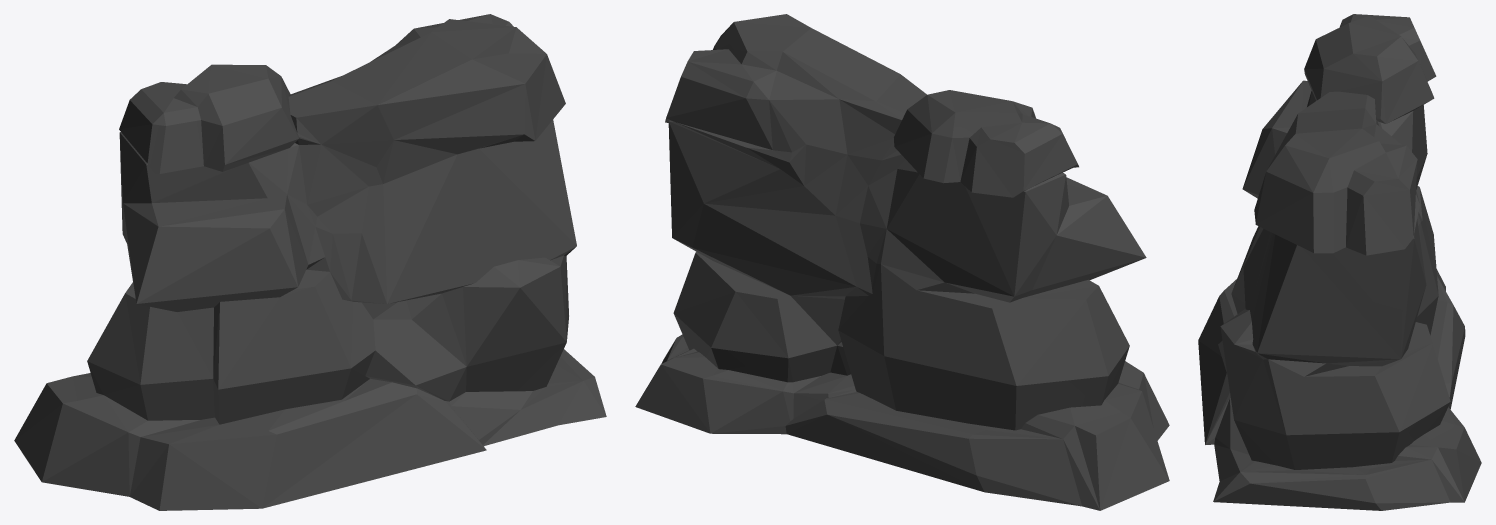
The model's file is rock__rockform_wall_short1_dark.glb.
The picture shows the model from 3 angles, left to right: view 1: azimuth 30°, elevation 25°; view 2: azimuth 150°, elevation 25°; view 3: azimuth 270°, elevation 25°; orthographic projection. The views are drawn at different scales.
Parts seen in each view (by area): view 1: rockform.wall.short1.dark; view 2: rockform.wall.short1.dark; view 3: rockform.wall.short1.dark.
Part boxes in pixels (bbox=[...]): rockform.wall.short1.dark: bbox=[14, 14, 606, 510]; rockform.wall.short1.dark: bbox=[635, 14, 1169, 510]; rockform.wall.short1.dark: bbox=[1198, 14, 1481, 510].
Size of the model in its own units: 22.98 by 15.12 by 11.75.
1 material, 1 textured.
